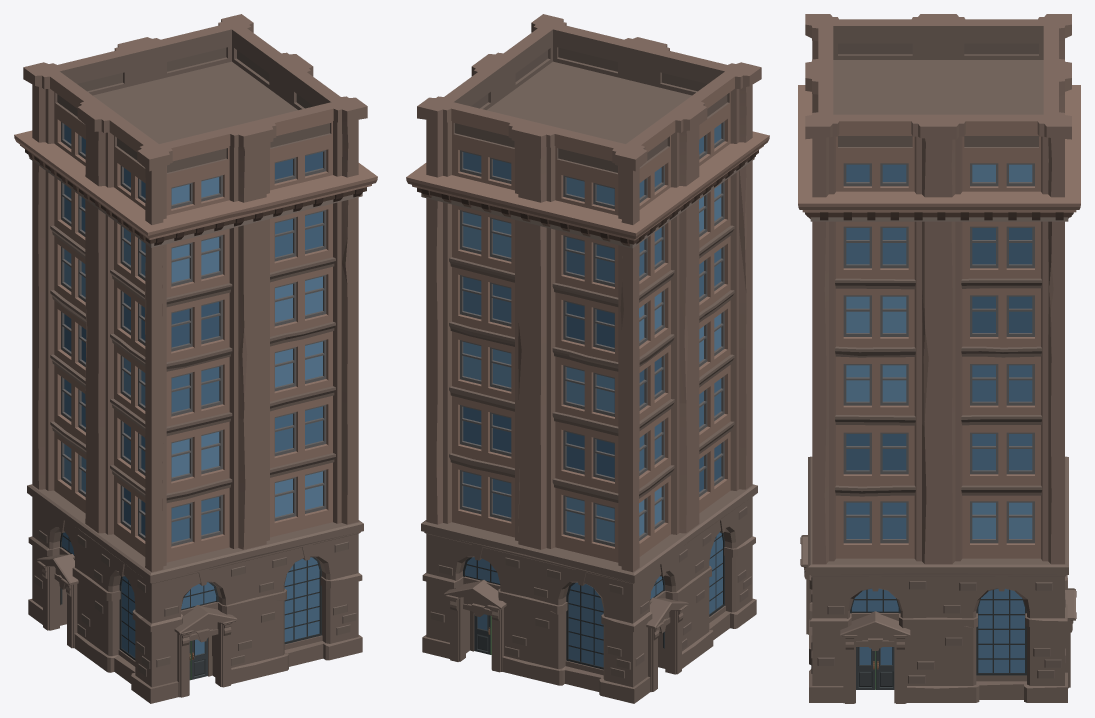
File: SM_Env_SmallBuilding.glb
3 views of the same model, side by side, from view 1: azimuth 30°, elevation 25°; view 2: azimuth 150°, elevation 25°; view 3: azimuth 270°, elevation 25° (orthographic). The views are drawn at different scales.
Visible parts, largest first — view 1: SM_Bld_Small; view 2: SM_Bld_Small; view 3: SM_Bld_Small.
Boxes of the visible parts, x1,y1,x2,y2 form: SM_Bld_Small: [14, 14, 377, 703]; SM_Bld_Small: [406, 14, 769, 703]; SM_Bld_Small: [798, 14, 1080, 703].
Bounding box in the file's own units: 11.12 × 25.24 × 11.2.
1 material, 1 textured.
